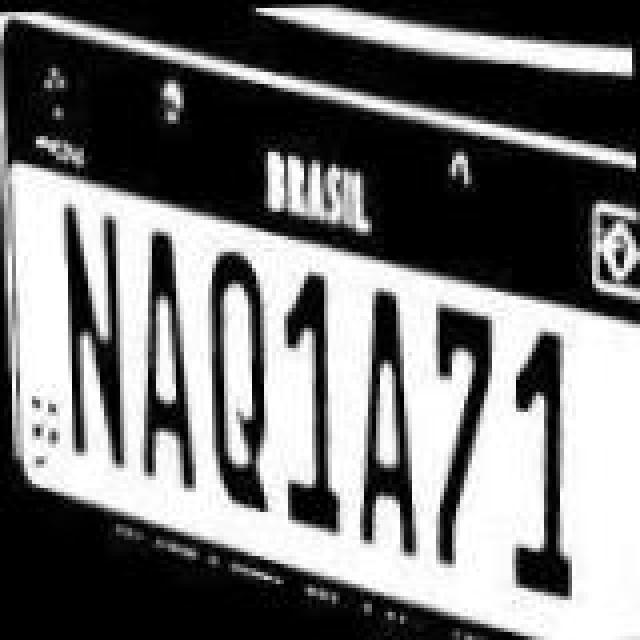1: (502, 294, 578, 598), (272, 258, 340, 534)
7: (424, 282, 504, 578)
A: (130, 222, 210, 514), (350, 262, 426, 558)
N: (54, 210, 134, 506)
Q: (208, 232, 276, 512)
